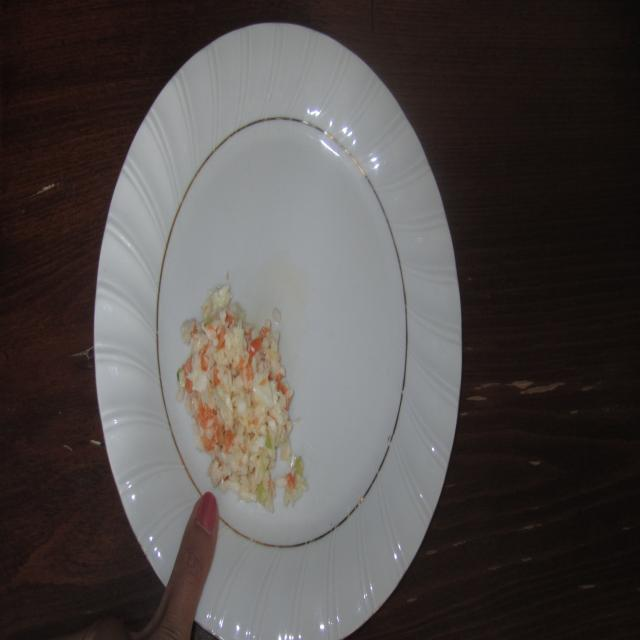vegatable salad: (163, 262, 314, 508)
